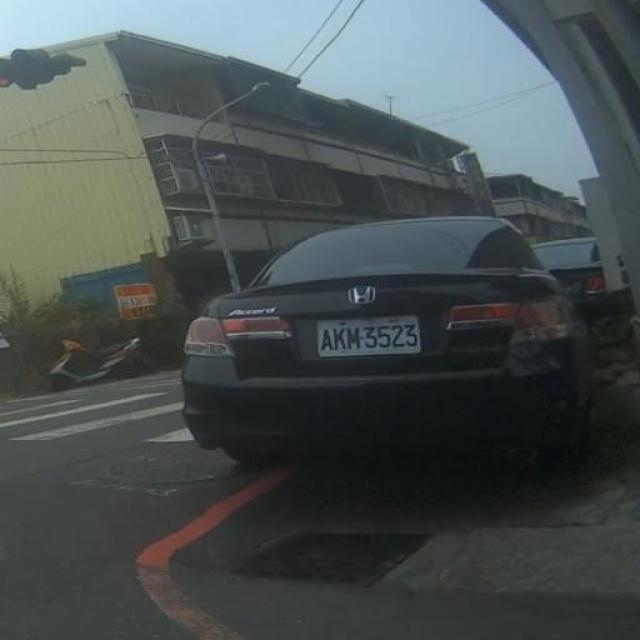illegalparking: (145, 178, 620, 530)
